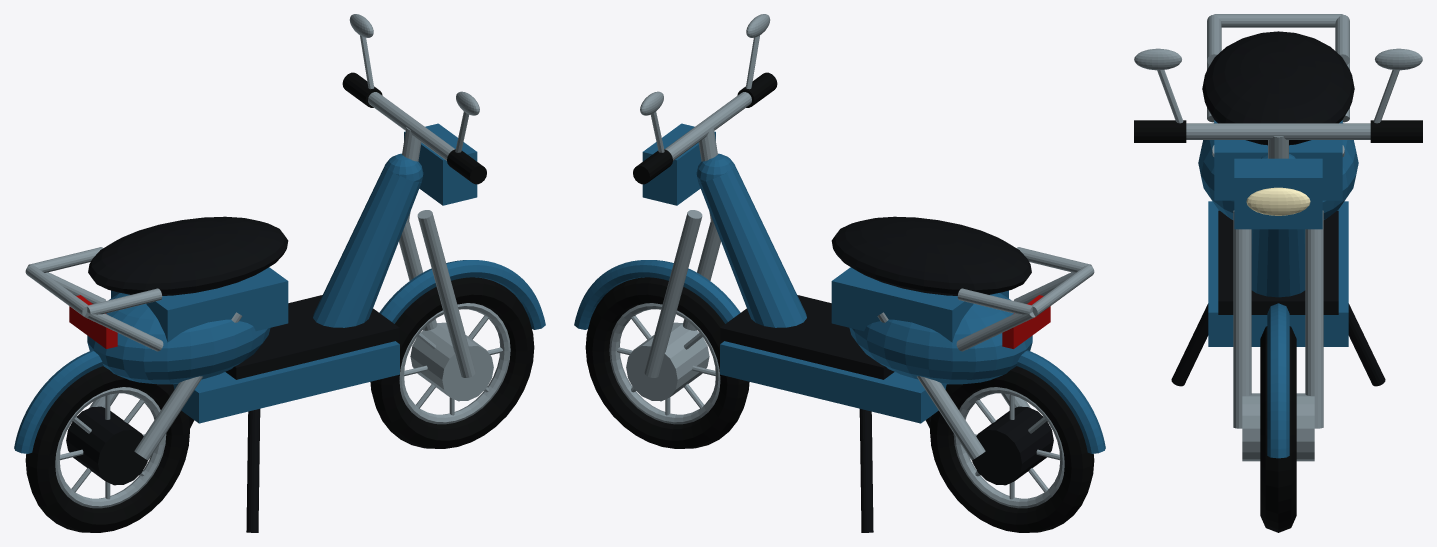
Rendered from ebike_0.dae.
3 renders of one model, left to right at view 1: azimuth 30°, elevation 25°; view 2: azimuth 150°, elevation 25°; view 3: azimuth 270°, elevation 25°, orthographic. The views are drawn at different scales.
Parts seen in each view (by area): view 1: part3node, part2node, part1node, part0node, part5node; view 2: part3node, part2node, part1node, part0node, part5node; view 3: part3node, part1node, part2node, part0node, part4node.
Boxes of the visible parts, box(x1,y1,x2,y2) form: part3node: box(14, 123, 545, 453); part2node: box(66, 216, 399, 532); part1node: box(25, 14, 510, 508); part0node: box(25, 72, 534, 532); part5node: box(69, 295, 117, 348); part3node: box(574, 123, 1105, 453); part2node: box(720, 216, 1053, 532); part1node: box(609, 14, 1094, 508); part0node: box(585, 72, 1094, 532); part5node: box(1002, 295, 1050, 348); part3node: box(1198, 120, 1358, 458); part1node: box(1134, 14, 1422, 461); part2node: box(1171, 31, 1385, 386); part0node: box(1134, 120, 1422, 532); part4node: box(1246, 187, 1310, 215).
Bounding box in the file's own units: 0.18 × 0.075 × 0.13.
